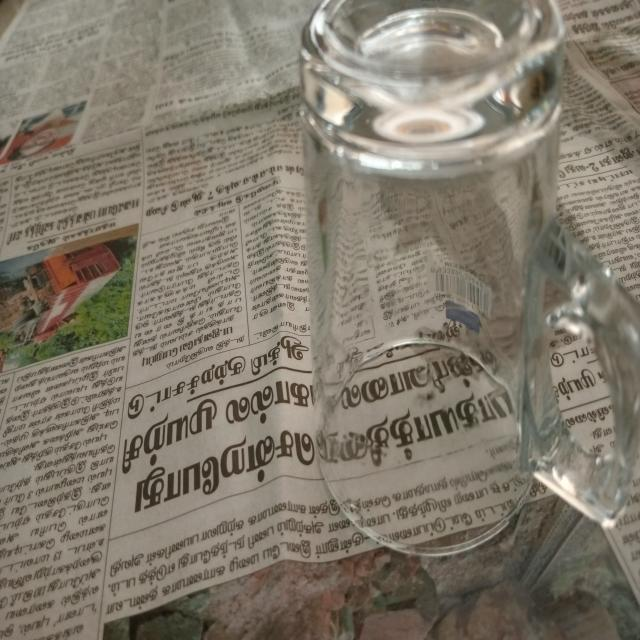glass-VX4N: (295, 0, 640, 554)
